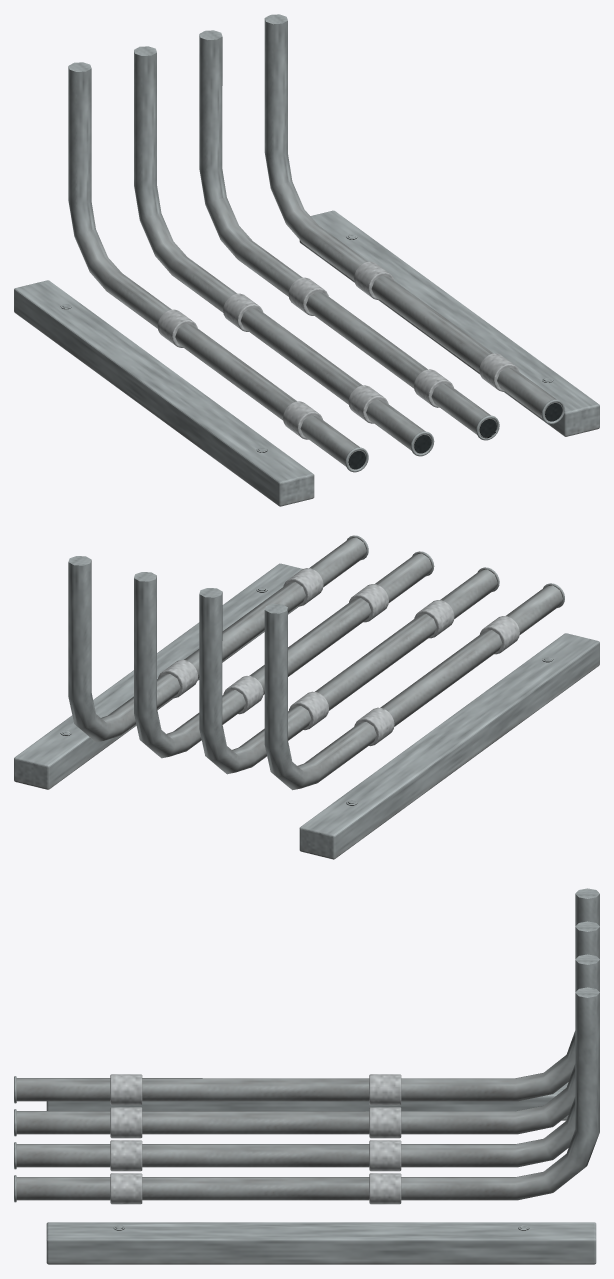
Rendered from GR_ConduitAssembly_01.glb.
3 renders of one model, top to bottom at view 1: azimuth 30°, elevation 25°; view 2: azimuth 150°, elevation 25°; view 3: azimuth 270°, elevation 25°, orthographic. The views are drawn at different scales.
Parts seen in each view (by area): view 1: Static; view 2: Static; view 3: Static.
Part boxes in pixels (<box>): Static: <box>14,14,599,506</box>; Static: <box>14,535,599,859</box>; Static: <box>14,888,599,1264</box>.
Bounding box in the file's own units: 1.08 × 0.75 × 1.65.
1 material, 1 textured.
